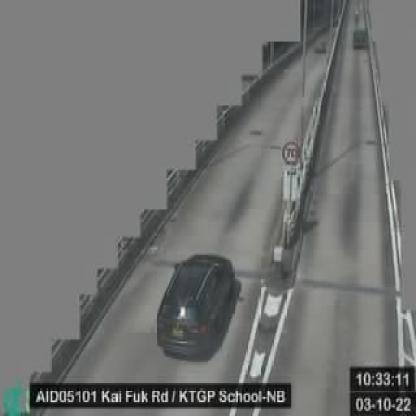Car: (153, 253, 234, 352)
